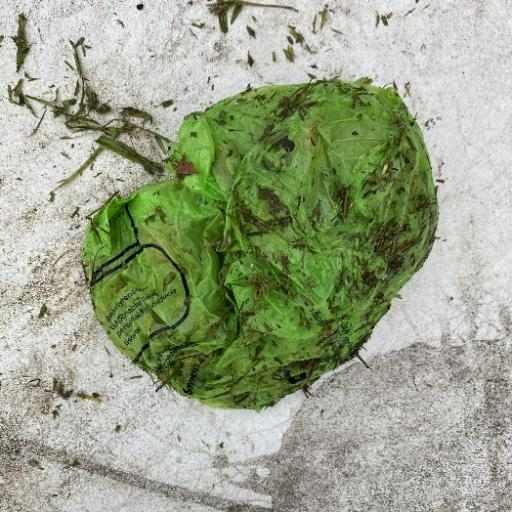Waste: (79, 76, 440, 412)
